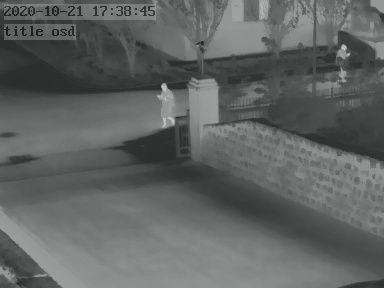person: (156, 82, 177, 131), (333, 44, 348, 84)
